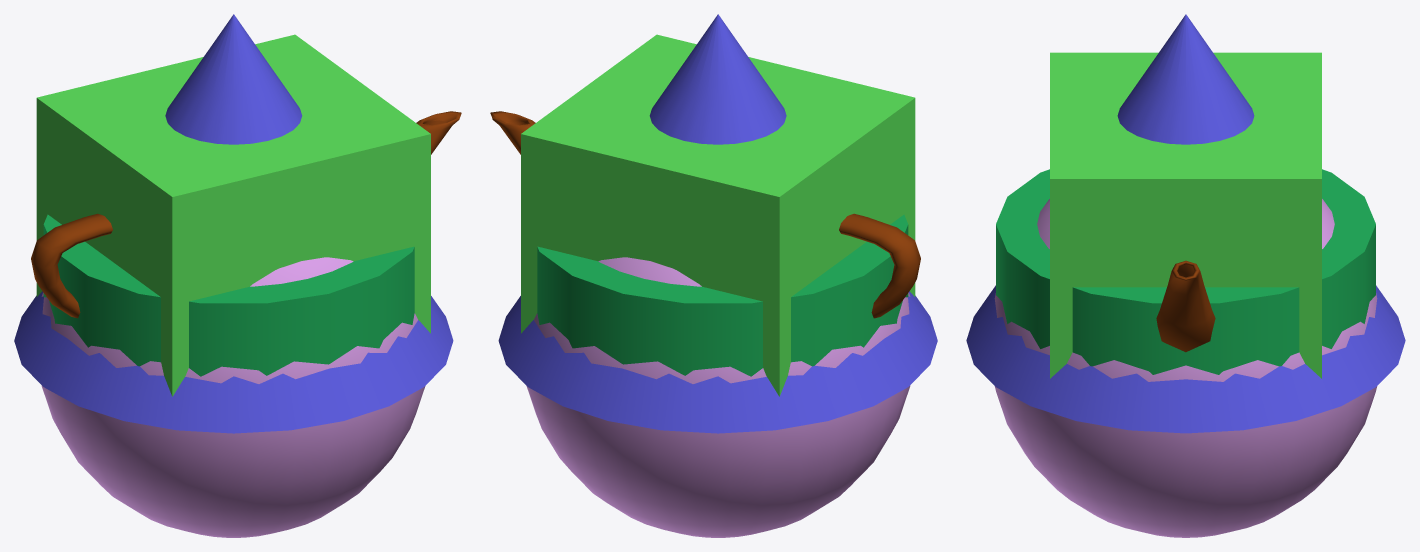
File: lod_pri.DAE
3 views of the same model, side by side, from view 1: azimuth 30°, elevation 25°; view 2: azimuth 150°, elevation 25°; view 3: azimuth 270°, elevation 25° (orthographic).
Parts seen in each view (by area): view 1: Box001, Sphere001, Cone001, Tube001, Teapot001; view 2: Box001, Sphere001, Cone001, Tube001, Teapot001; view 3: Box001, Sphere001, Cone001, Tube001, Teapot001.
Boxes of the visible parts, bbox=[...] form: Box001: bbox=[36, 34, 430, 396]; Sphere001: bbox=[41, 257, 425, 537]; Cone001: bbox=[14, 14, 453, 433]; Tube001: bbox=[43, 214, 414, 376]; Teapot001: bbox=[31, 111, 461, 318]; Box001: bbox=[521, 34, 915, 396]; Sphere001: bbox=[526, 257, 910, 537]; Cone001: bbox=[498, 14, 937, 433]; Tube001: bbox=[537, 214, 908, 376]; Teapot001: bbox=[490, 111, 920, 318]; Box001: bbox=[1050, 52, 1321, 378]; Sphere001: bbox=[994, 199, 1377, 537]; Cone001: bbox=[966, 14, 1405, 433]; Tube001: bbox=[996, 169, 1375, 374]; Teapot001: bbox=[1156, 260, 1215, 352].
Bounding box in the file's own units: 95.58 × 85.05 × 108.
